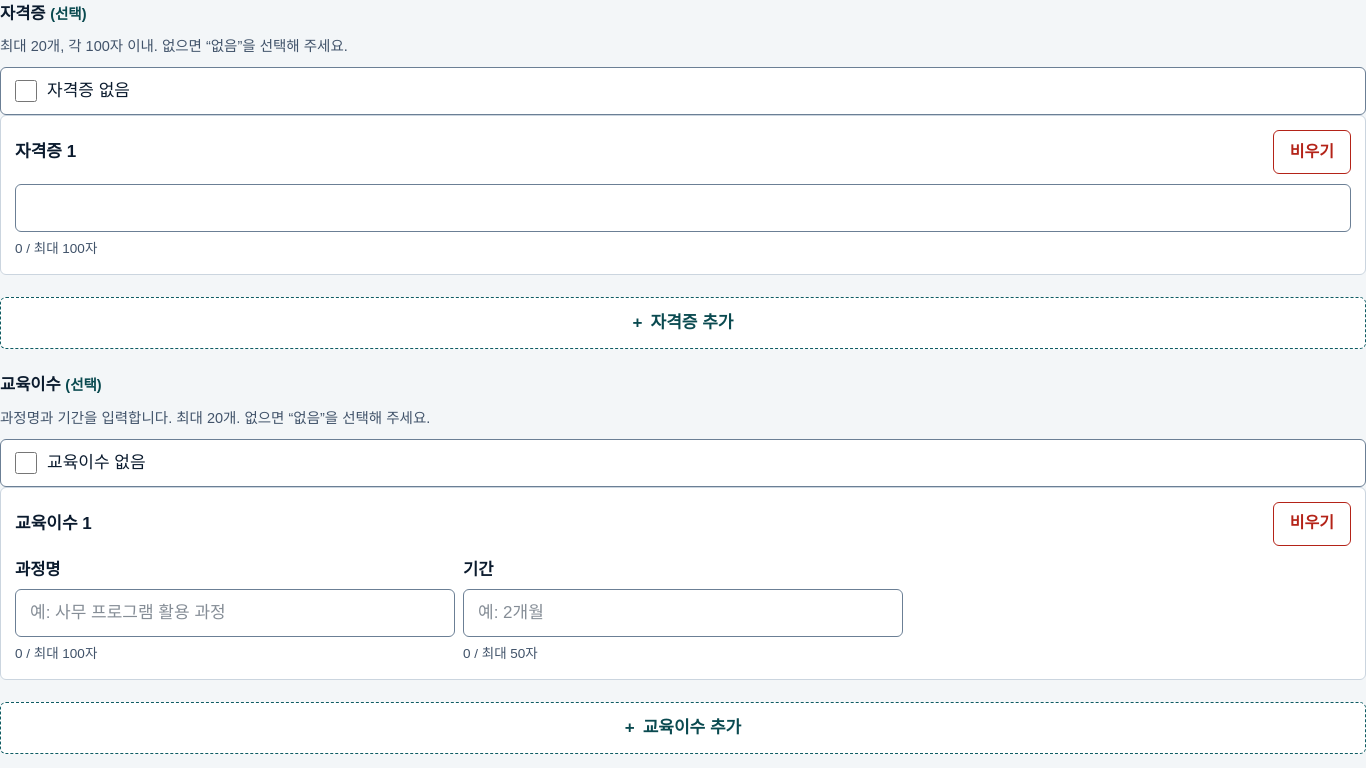
Test: 입력 페이지 구성 (T045~T051) › 자격증·교육이수: 각각 "없음" 선택지가 있고 선택 시 입력이 비활성이다
Step 1. Click the checkbox labelled "자격증 없음" → (26, 91), box left=15, top=80, right=37, bottom=102
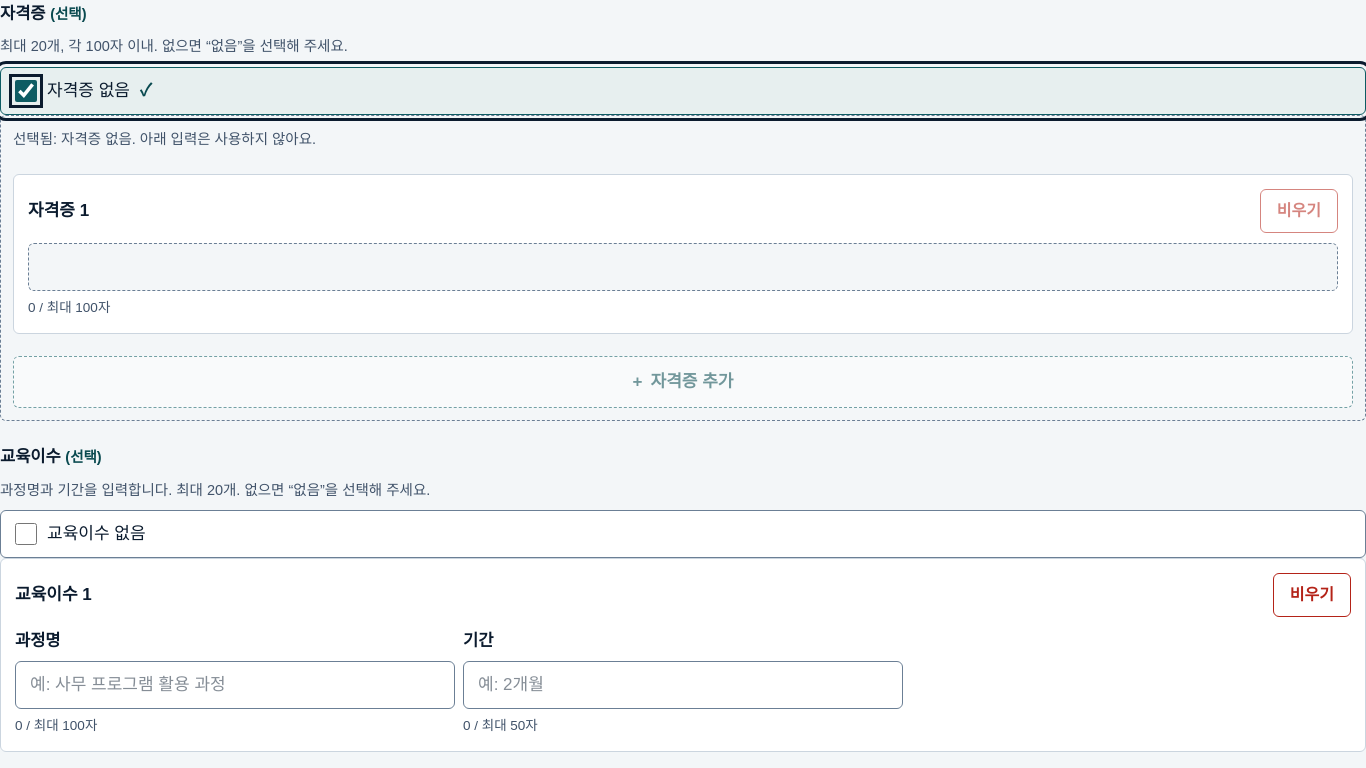
Step 2. Click the checkbox labelled "교육이수 없음" → (26, 534), box left=15, top=524, right=37, bottom=546
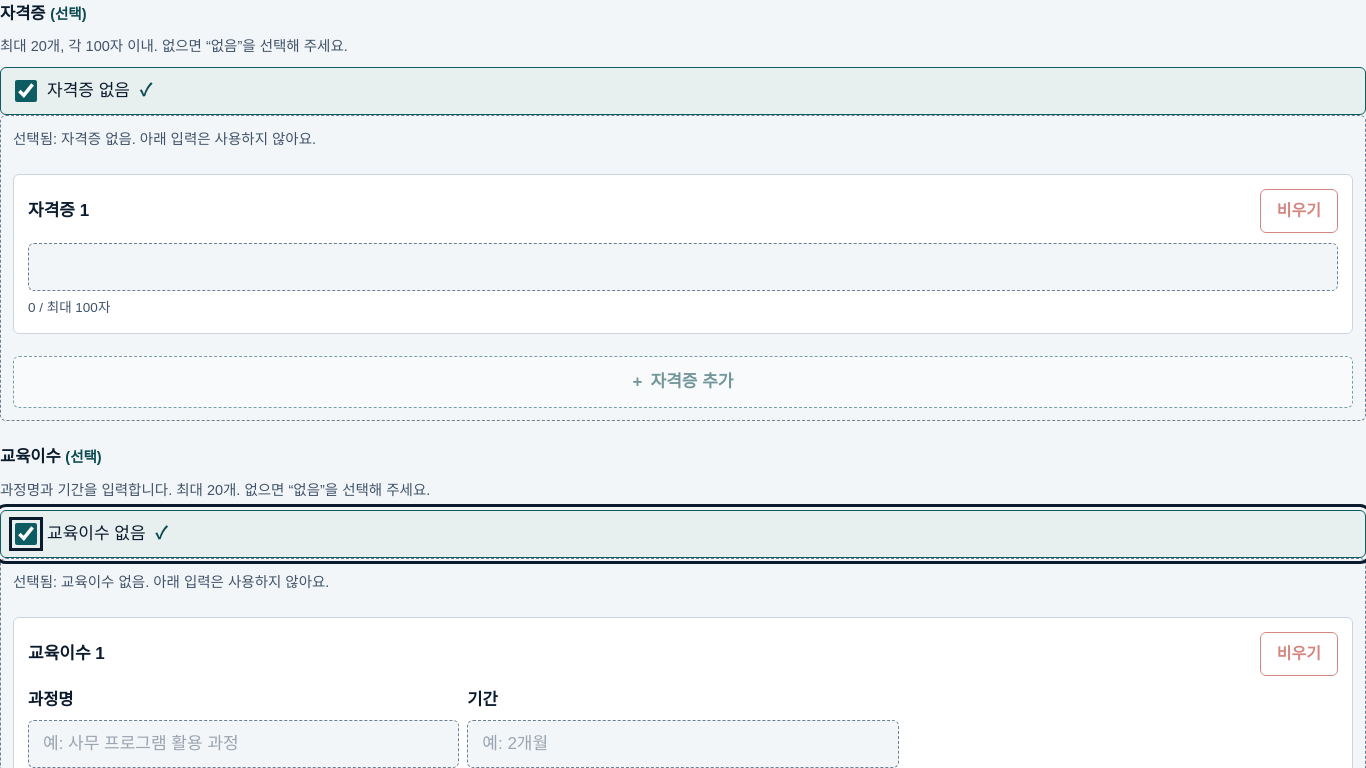
Expected: the field named "자격증 1" is disabled, left=28, top=243, right=1338, bottom=291
Expected: the text "선택됨: 자격증 없음. 아래 입력은 사용하지 않아요." is shown 2 times, left=13, top=131, right=316, bottom=147; left=13, top=574, right=329, bottom=590
